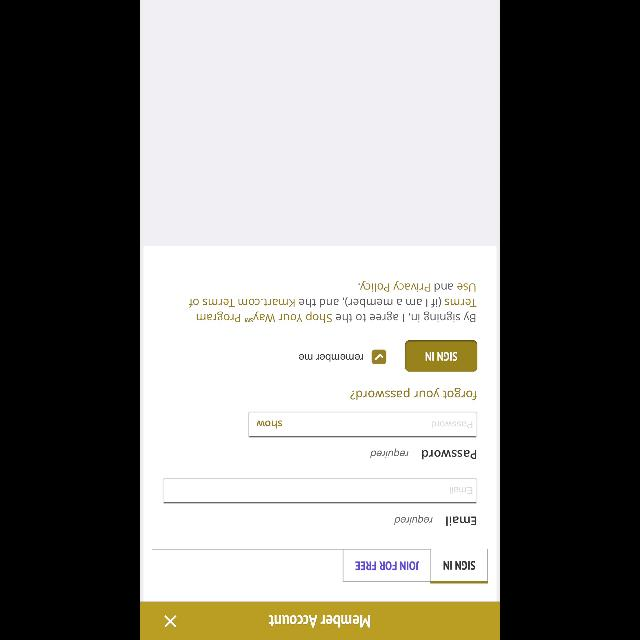checkbox: (372, 350, 386, 364)
icon: (164, 615, 176, 627)
input: (163, 478, 477, 504), (248, 411, 477, 437)
text: (188, 281, 476, 323), (350, 388, 476, 400), (270, 614, 370, 628), (299, 354, 363, 362), (422, 449, 476, 458), (394, 515, 432, 525), (370, 448, 408, 458), (443, 560, 475, 570), (432, 420, 472, 428), (446, 516, 476, 526), (256, 420, 282, 428), (450, 486, 472, 494)
textbutton: (343, 548, 431, 582), (405, 341, 477, 372)
